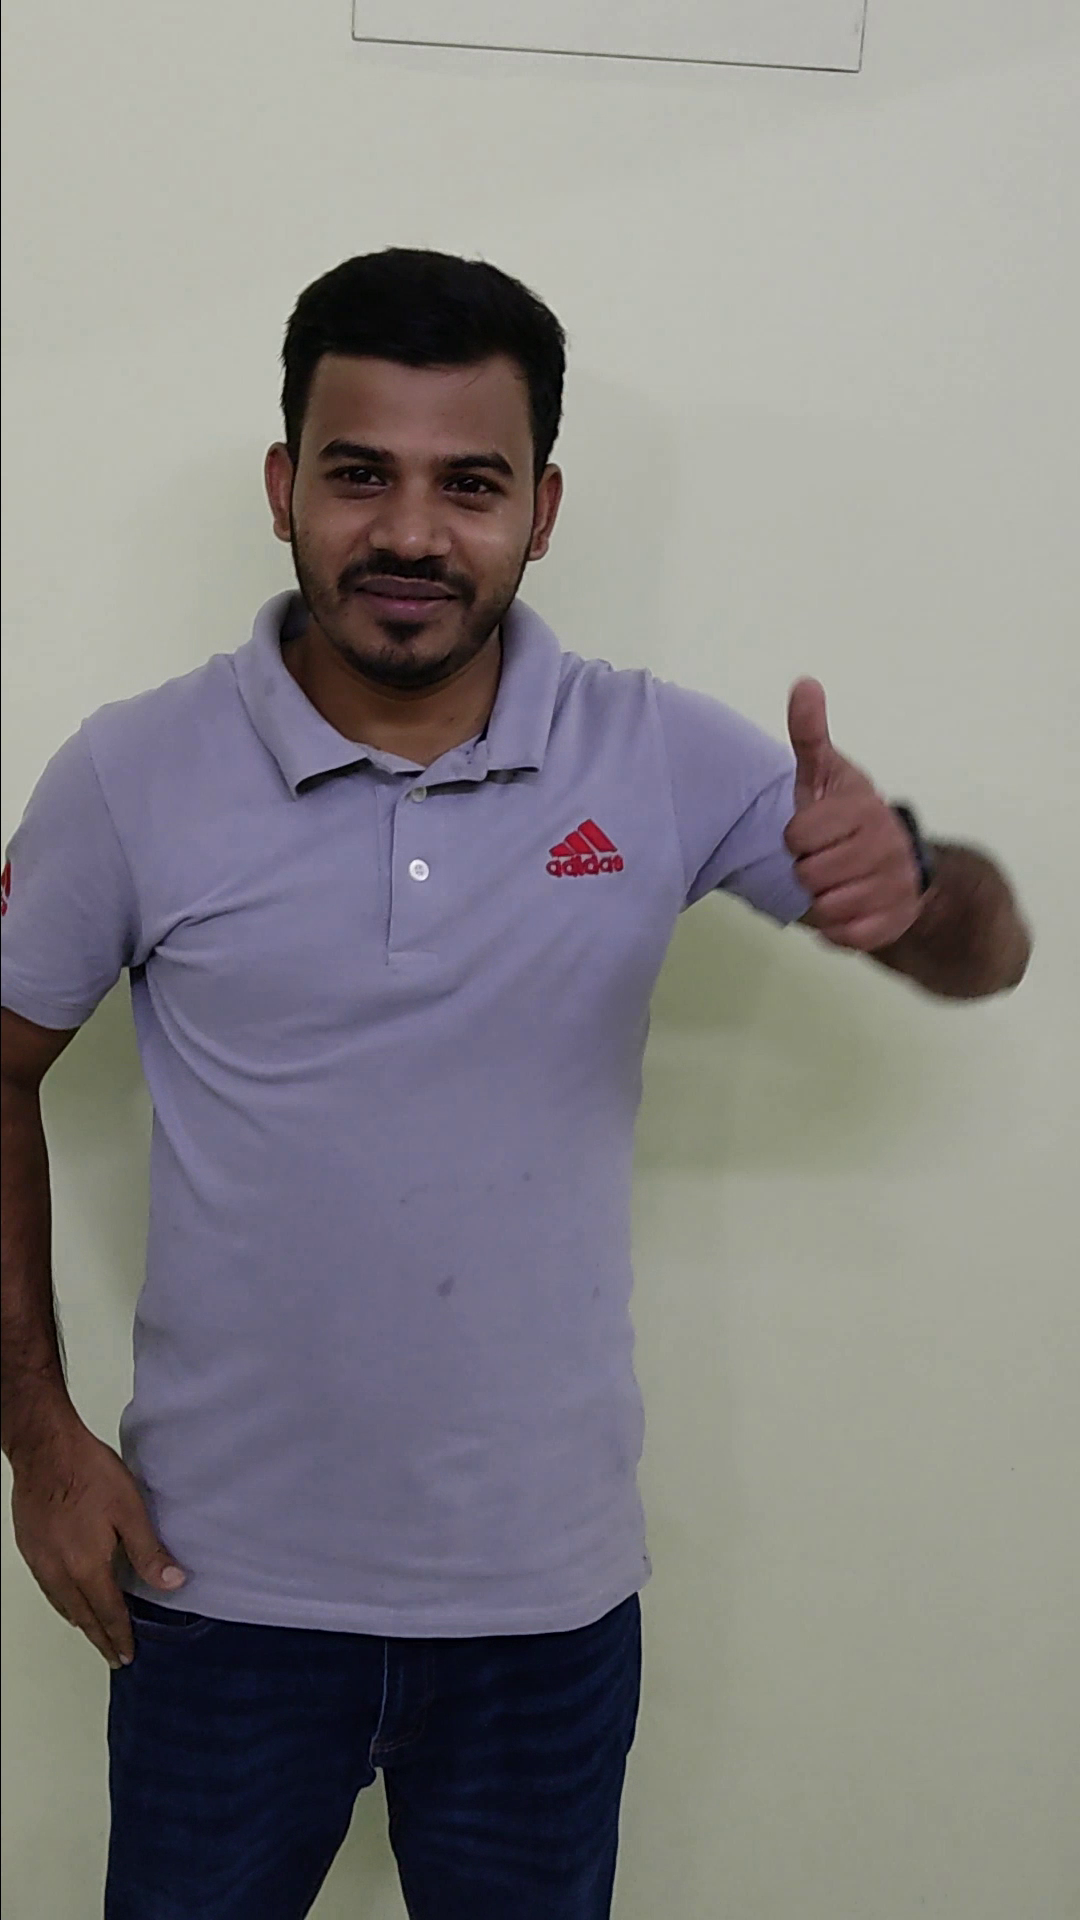Like: (729, 676, 952, 968)
None: (3, 1395, 204, 1679)
